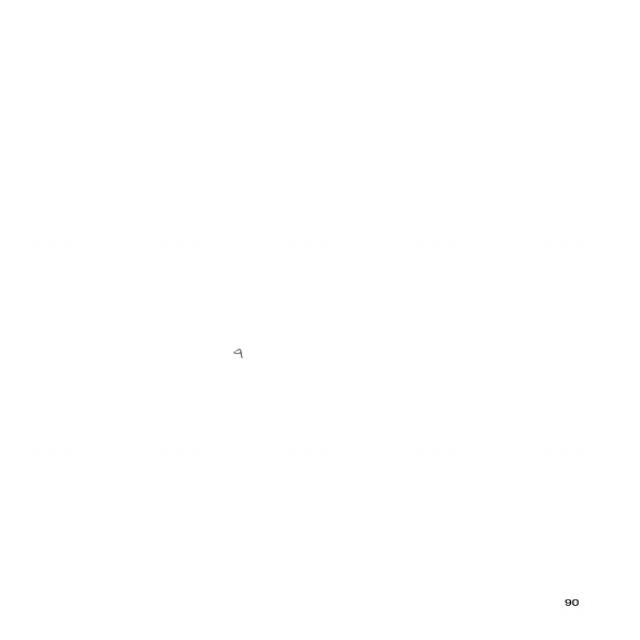9 -nine-: (231, 347, 244, 360)
